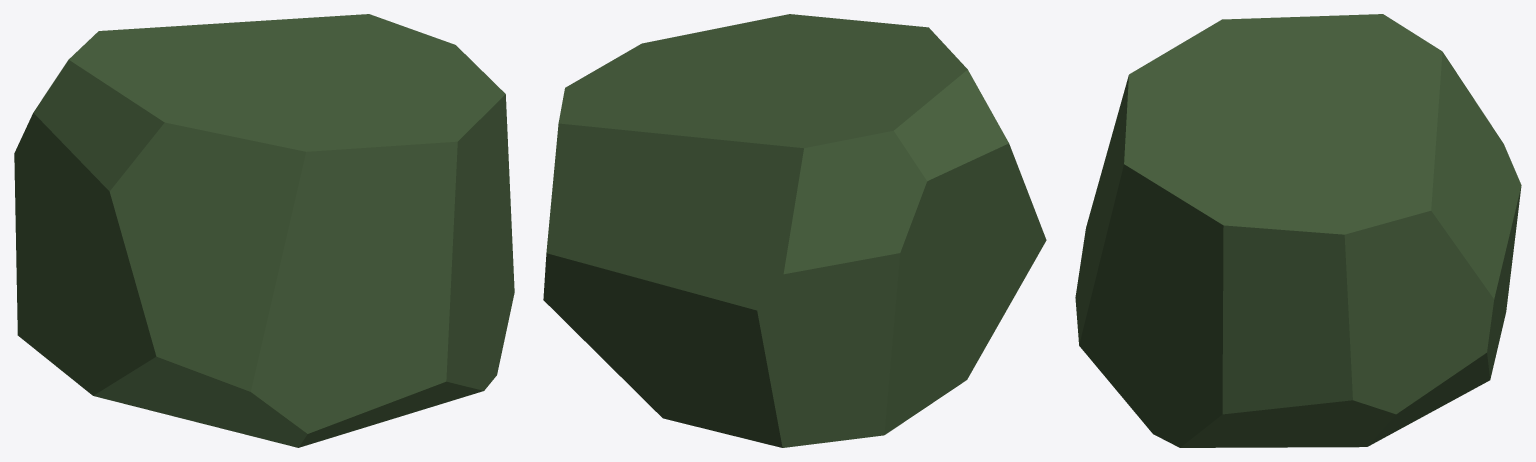
File: StoneBig2.fbx
3 views of the same model, side by side, from view 1: azimuth 30°, elevation 25°; view 2: azimuth 150°, elevation 25°; view 3: azimuth 270°, elevation 25° (orthographic). The views are drawn at different scales.
Parts seen in each view (by area): view 1: StoneBig2.fbx; view 2: StoneBig2.fbx; view 3: StoneBig2.fbx.
Boxes of the visible parts, x1,y1,x2,y2 form: StoneBig2.fbx: (14,14,514,447); StoneBig2.fbx: (543,14,1046,447); StoneBig2.fbx: (1075,14,1521,447).
Bounding box in the file's own units: 330 × 238 × 332.
Materials: 1 (1 with a texture image).
